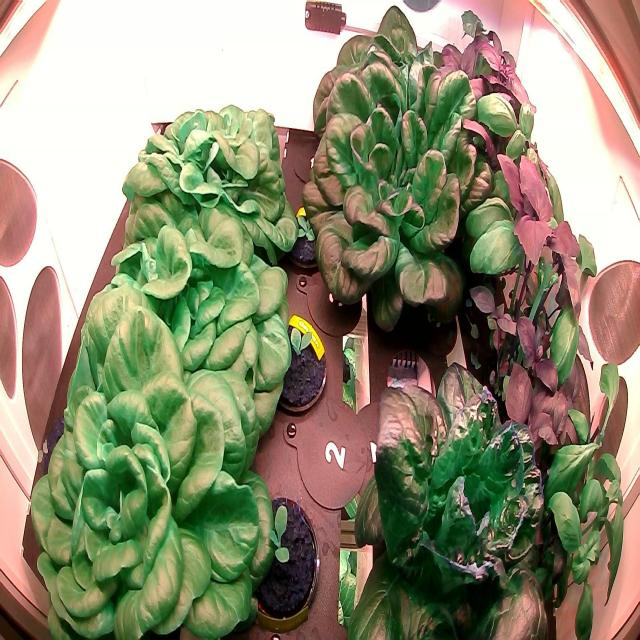Ready: (23, 307, 282, 640), (331, 358, 561, 640), (295, 49, 511, 343), (72, 212, 296, 452), (114, 96, 307, 283), (309, 0, 488, 188)
empty_pod: (379, 330, 442, 438), (288, 123, 334, 191)
germination: (241, 486, 322, 636), (256, 309, 332, 428)
young: (271, 188, 337, 281)
